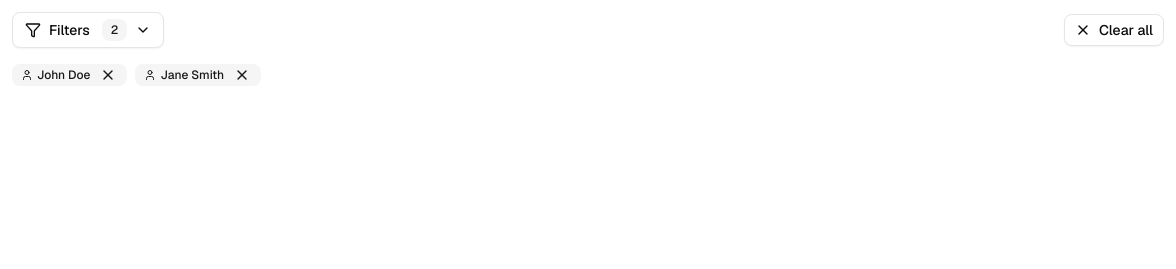
Test: TimelineFilters › shows selected authors count
// Expand filters
Click the button "Filters 2". click: x=88, y=30
box: [12,12,164,48]
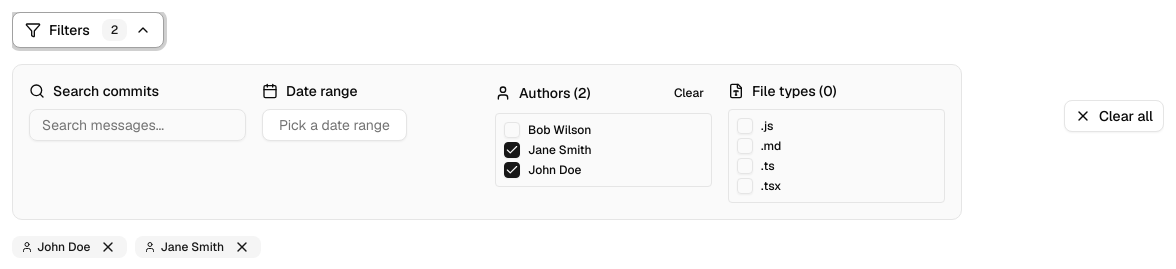
Check: the text "Authors (2)" is shown, box [495,83,591,103]
